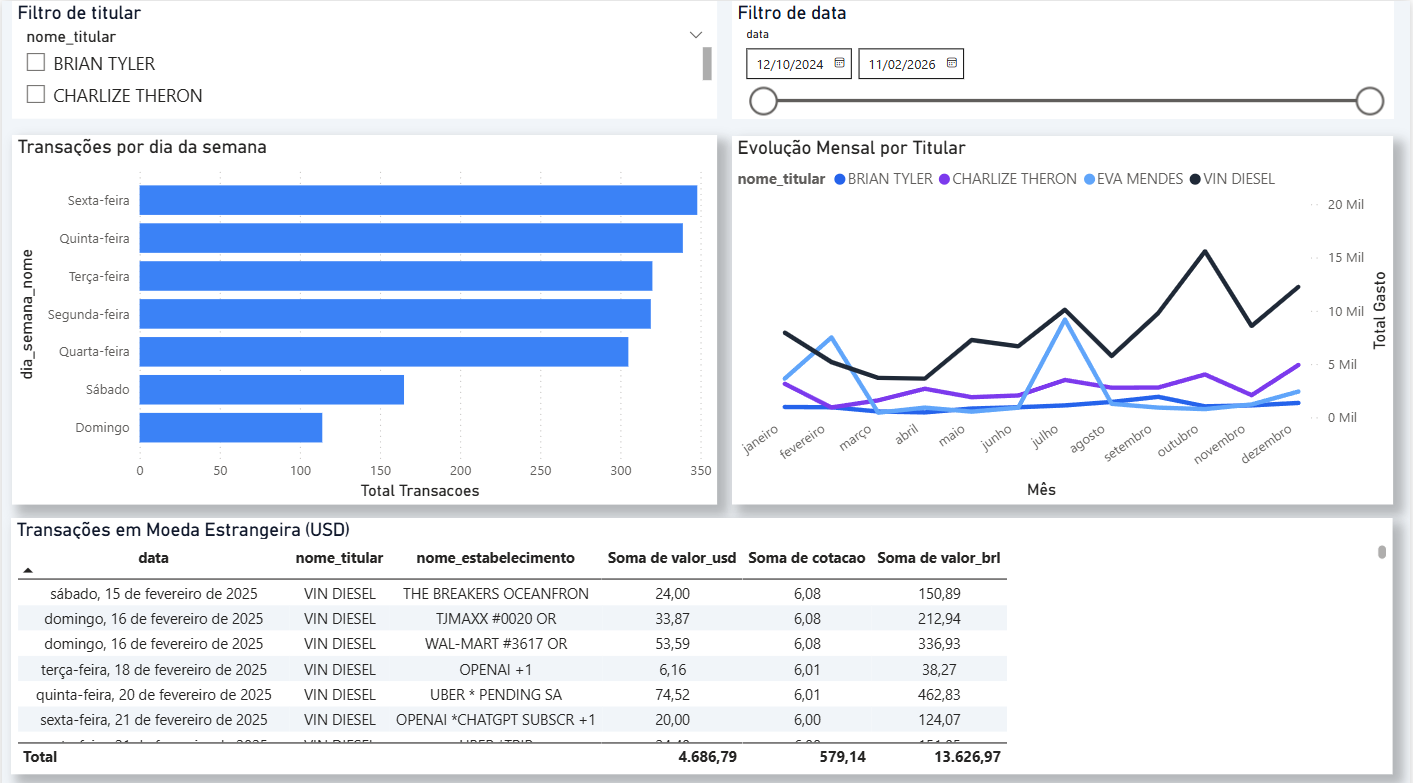

The dashboard page shown, as its layout file describes it:
{"tool":"powerbi","page":{"name":"Análise Temporal","canvas":[1280,720],"ordinal":2},"visuals":[{"type":"clusteredBarChart","title":"Transações por dia da semana","fields":{"Category":["public dim_data.dia_semana_nome"],"Y":["public fato_transacao.Total Transacoes"]},"box":[8.9,121.8,640.9,336],"z":0},{"type":"lineChart","title":"Evolução Mensal por Titular","fields":{"Category":["public dim_data.data.Variation.Hierarquia de datas.Ano","public dim_data.data.Variation.Hierarquia de datas.Trimestre","public dim_data.data.Variation.Hierarquia de datas.Mês","public dim_data.data.Variation.Hierarquia de datas.Dia"],"Series":["public dim_titular.nome_titular"],"Y2":["public fato_transacao.Total Gasto"]},"box":[664,122.7,600.9,335.1],"z":1000},{"type":"tableEx","title":"Transações em Moeda Estrangeira (USD)","fields":{"Values":["public dim_data.data","public dim_titular.nome_titular","public dim_estabelecimento.nome_estabelecimento","Sum(public fato_transacao.valor_usd)","Sum(public fato_transacao.cotacao)","Sum(public fato_transacao.valor_brl)"]},"box":[8,470,1256,232.9],"z":2000},{"type":"slicer","title":"Filtro de data","fields":{"Values":["public dim_data.data"]},"box":[664,0,600.9,106.7],"z":3000},{"type":"slicer","title":"Filtro de titular","fields":{"Values":["public dim_titular.nome_titular"]},"box":[8.9,0,640.9,106.7],"z":4000}]}

Visuals, with their boxes in screenshot pixels (x1, y1, x2, y2), scaled from the page's 1280x720 canvas onto the 1413x783 screenshot:
"Transações por dia da semana" clusteredBarChart: bbox(10, 132, 717, 498)
"Evolução Mensal por Titular" lineChart: bbox(733, 133, 1396, 498)
"Transações em Moeda Estrangeira (USD)" tableEx: bbox(9, 511, 1395, 764)
"Filtro de data" slicer: bbox(733, 0, 1396, 116)
"Filtro de titular" slicer: bbox(10, 0, 717, 116)
